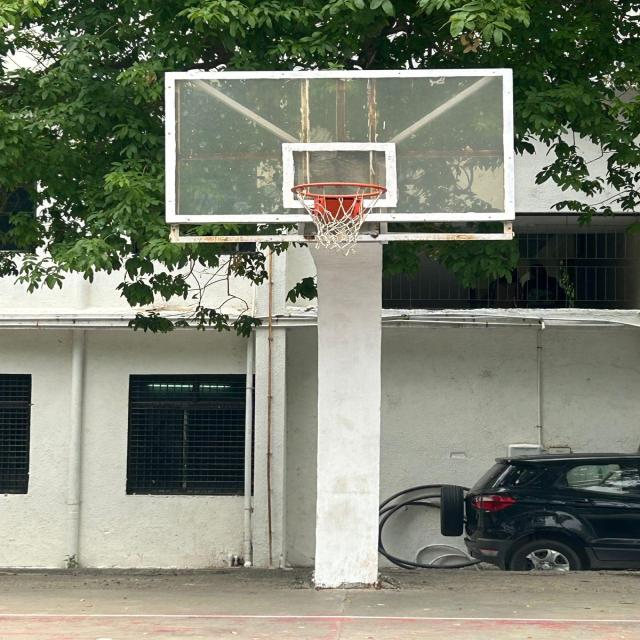hoop: (276, 173, 405, 270)
